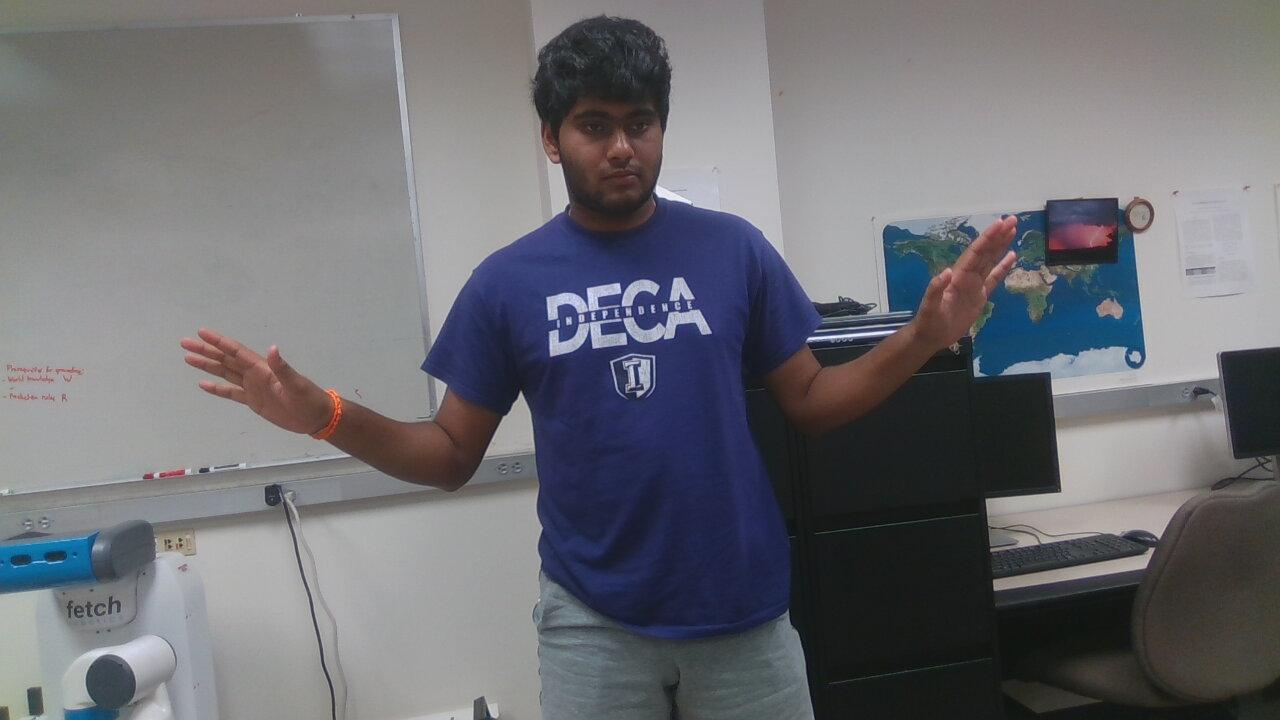hands: (176, 307, 347, 455), (911, 204, 1027, 370)
